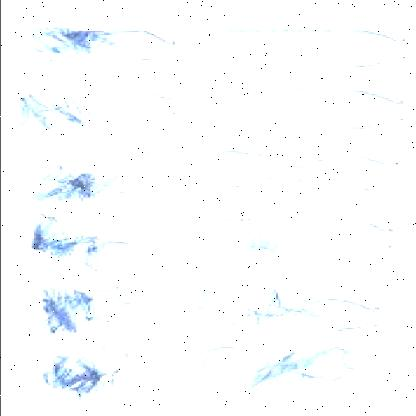Plastic Bottle: (11, 22, 412, 404), (191, 210, 398, 263), (191, 149, 404, 195), (191, 86, 409, 130), (190, 27, 412, 70), (195, 343, 375, 396), (194, 281, 384, 331), (22, 148, 170, 204), (12, 86, 178, 134), (25, 213, 145, 273), (22, 26, 176, 64), (40, 342, 130, 404), (39, 283, 133, 336)
